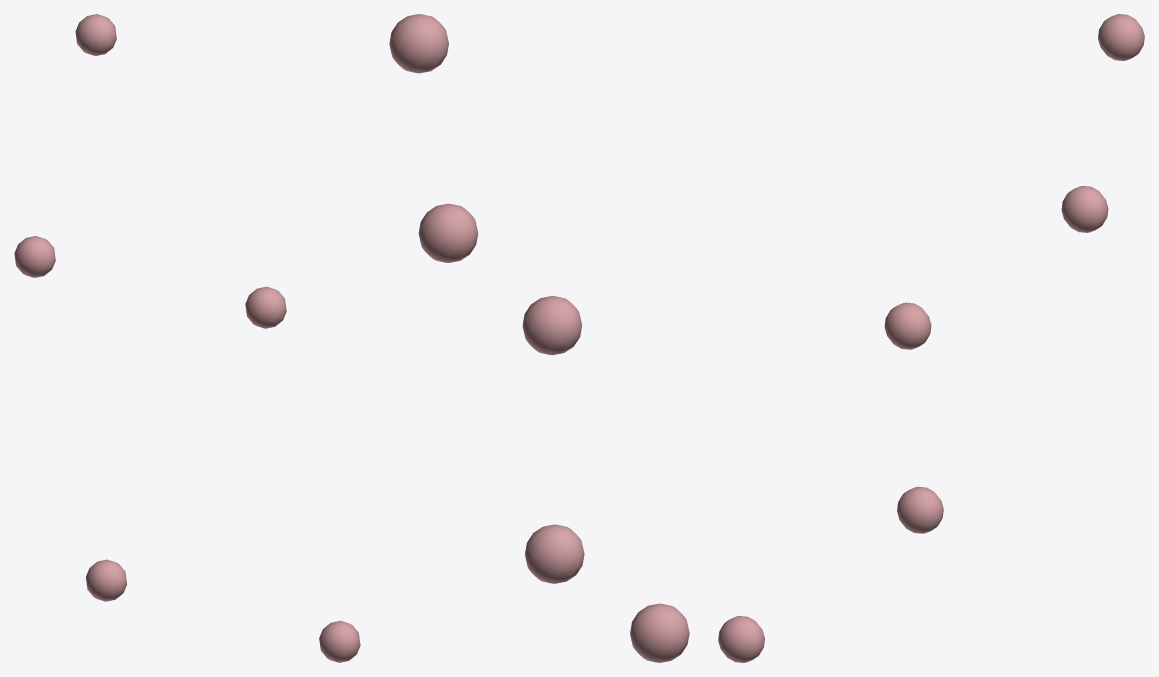
3 renders of one model, left to right at view 1: azimuth 30°, elevation 25°; view 2: azimuth 150°, elevation 25°; view 3: azimuth 270°, elevation 25°, orthographic. The views are drawn at different scales.
Parts seen in each view (by area): view 1: ZA_004cfdd90059bd7d; view 2: ZA_004cfdd90059bd7d; view 3: ZA_004cfdd90059bd7d.
Boxes of the visible parts, x1,y1,x2,y2 form: ZA_004cfdd90059bd7d: (14, 14, 360, 662); ZA_004cfdd90059bd7d: (389, 14, 689, 662); ZA_004cfdd90059bd7d: (718, 14, 1144, 662).
Size of the model in its own units: 0.0135 by 0.0366 by 0.0234.
